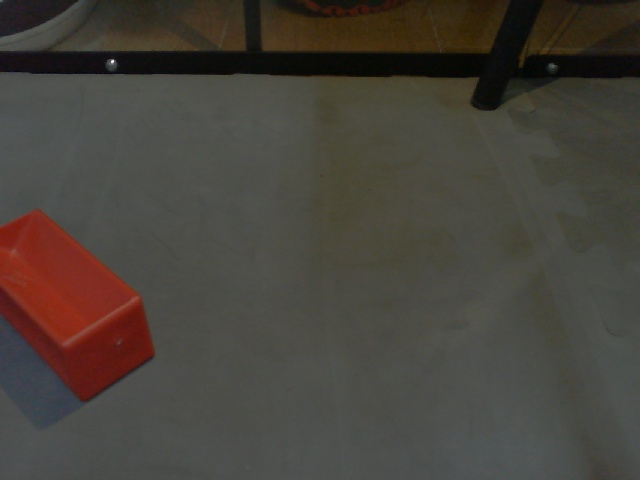RedSample: (1, 208, 156, 405)
